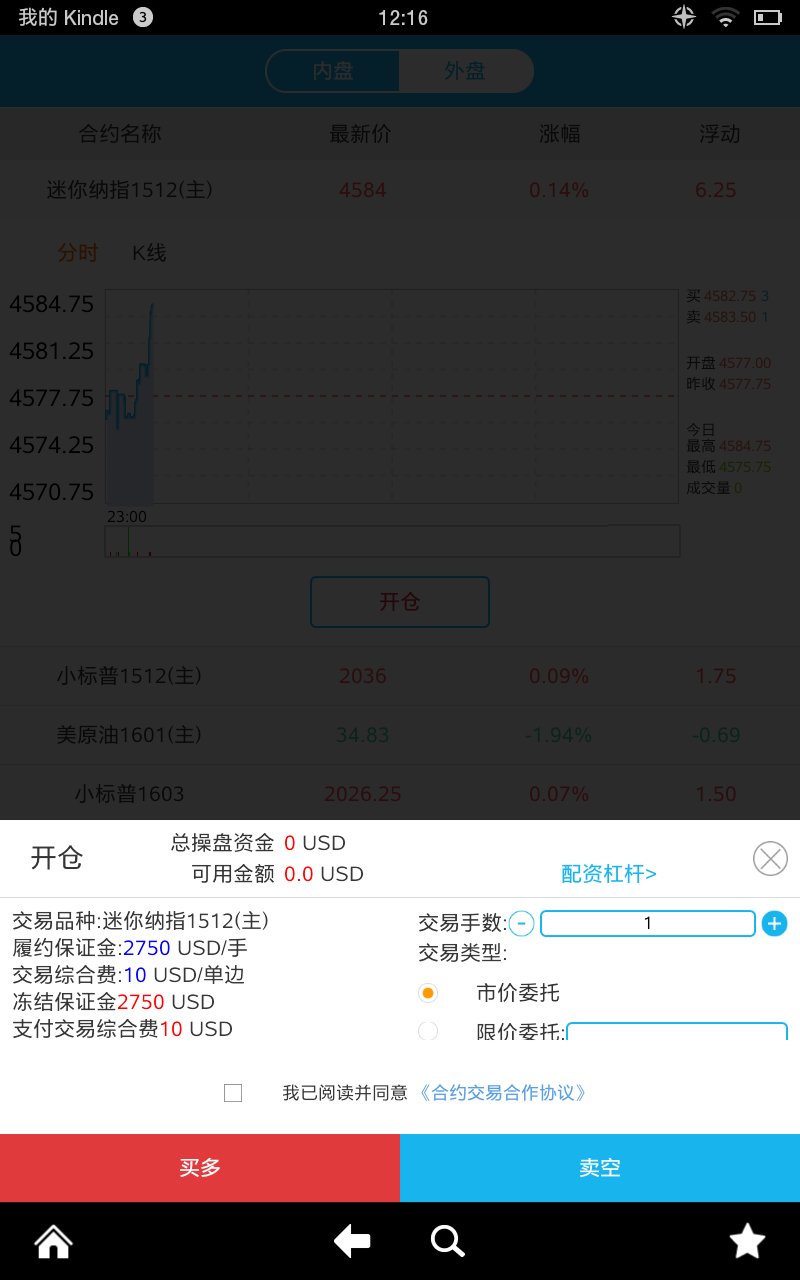button: (418, 1134, 800, 1210), (7, 1135, 403, 1202)
checkbox: (198, 1077, 605, 1113)
